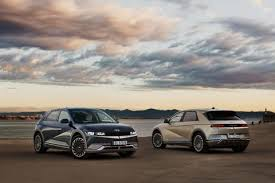Honda Ioniq: (22, 104, 142, 166), (146, 105, 253, 161)
